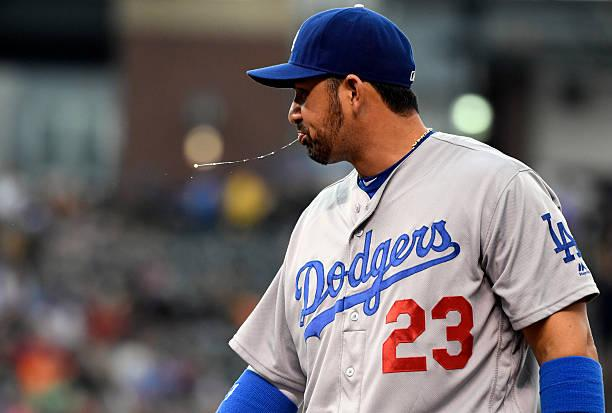Spitting: (216, 2, 439, 184)
